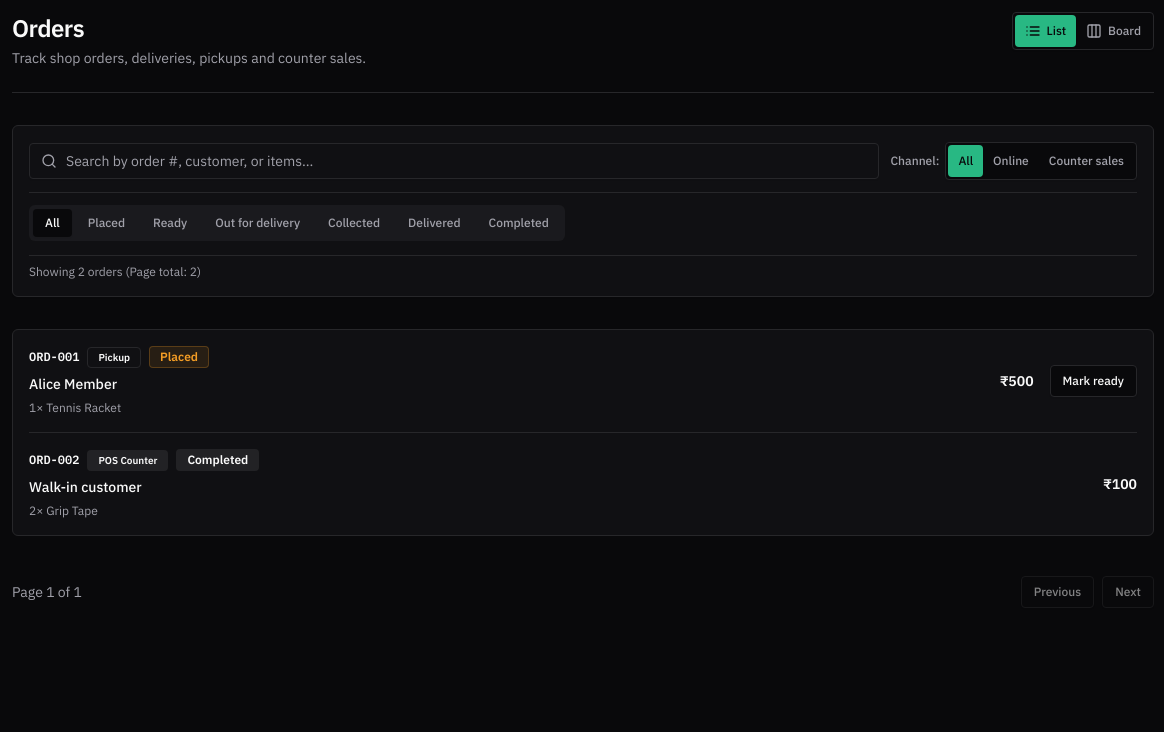
Test: Orders Page & Board Layout (Issue #72) › filters orders by search text (order number, customer name, items)
Expected: the text "ORD-001" is shown, [29,349,79,365]
Note: Search for Tennis Racket
In the field named "Search orders": (454, 161) [29,143,878,179], type "Racket"
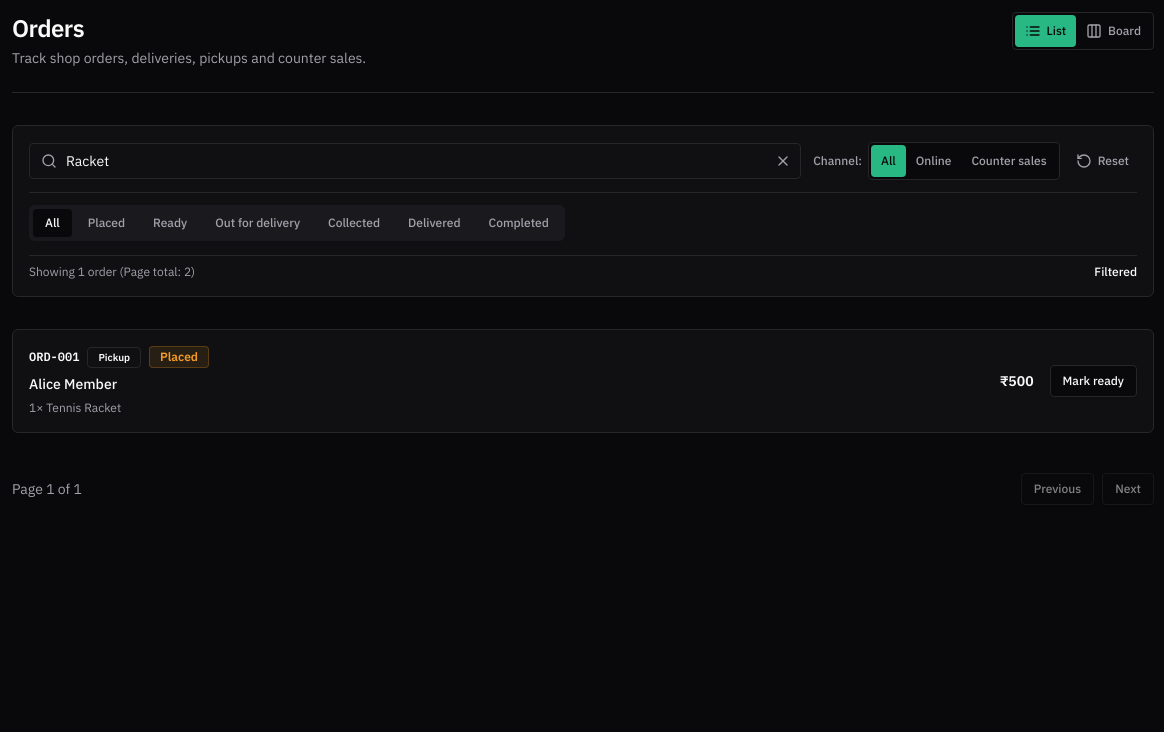
Expected: the text "ORD-001" is shown, [29,349,79,365]
Expected: the text "ORD-002" is gone
Note: Search for POS customer
Replace the text in the field named "Search orders" with "Walk-in": (415, 161) [29,143,801,179]
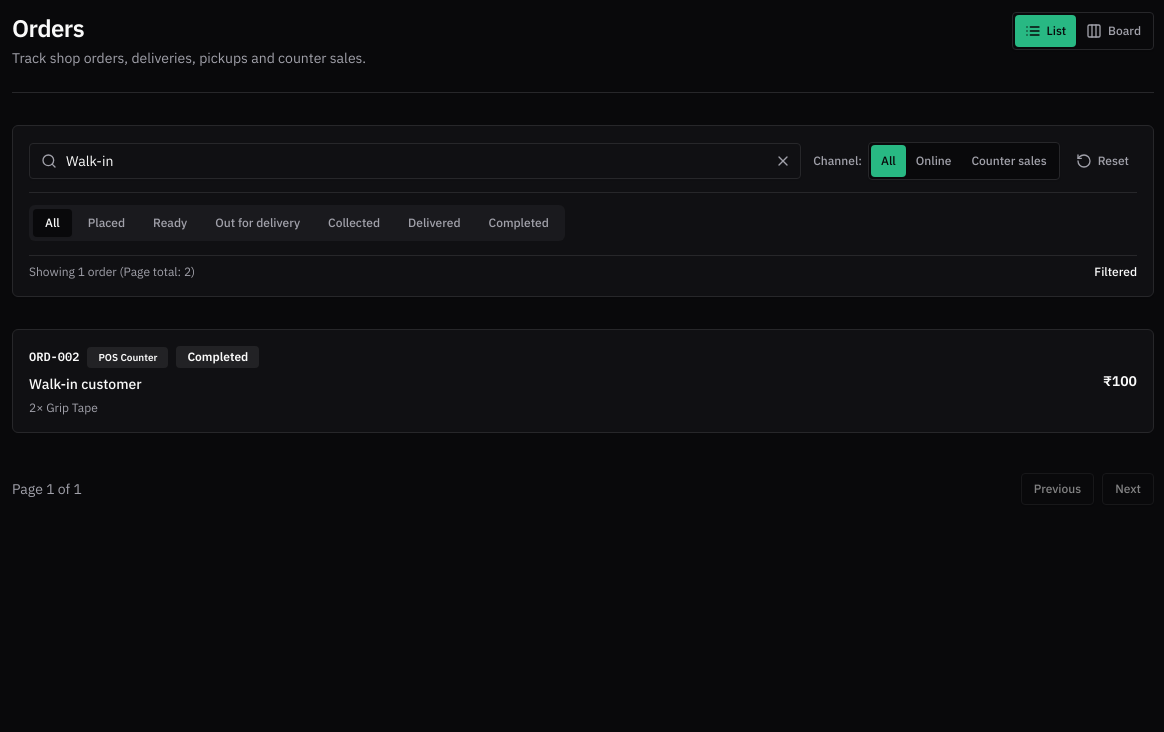
Expected: the text "ORD-002" is shown, [29,349,79,365]
Expected: the text "ORD-001" is gone
Note: Clear search
Click the button named "Clear search": (783, 161) [775,153,791,169]
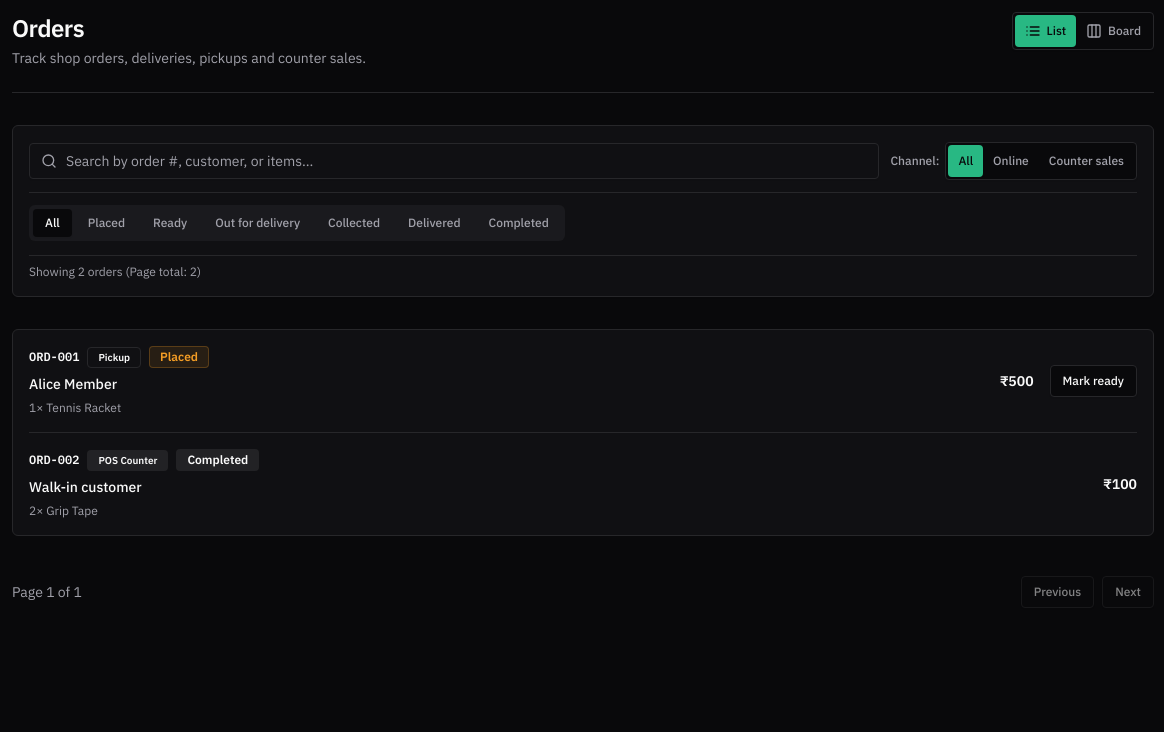
Expected: the text "ORD-002" is shown, [29,452,79,468]
Expected: the text "ORD-001" is shown, [29,349,79,365]
